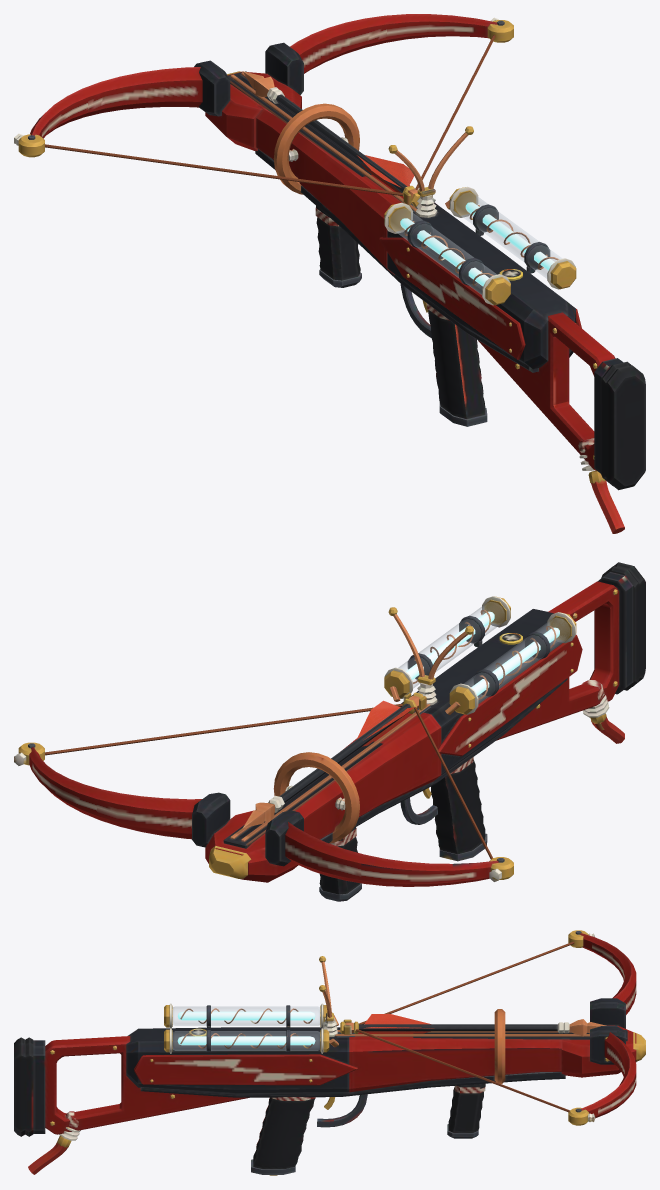
Rendered from stormreel.glb.
The picture shows the model from 3 angles, top to bottom: view 1: azimuth 30°, elevation 25°; view 2: azimuth 150°, elevation 25°; view 3: azimuth 270°, elevation 25°; orthographic projection. The views are drawn at different scales.
Parts seen in each view (by area): view 1: Stormreel_Body, Prod_L, Prod_R, Capacitor_Glass, Bolt_Mesh, String_L, Charge_R_Core, Charge_L_Core; view 2: Stormreel_Body, Prod_L, Prod_R, Capacitor_Glass, Bolt_Mesh, String_R, Charge_L_Core, Charge_R_Core, String_L; view 3: Stormreel_Body, Capacitor_Glass, Bolt_Mesh, Prod_R, Prod_L, Charge_R_Core, Charge_L_Core, String_R, String_L.
Part boxes in pixels (x1,y1,x2,y2): Stormreel_Body: [194, 42, 645, 533]; Prod_L: [14, 67, 202, 157]; Prod_R: [290, 14, 513, 73]; Capacitor_Glass: [390, 192, 561, 294]; Bolt_Mesh: [243, 71, 420, 207]; String_L: [45, 144, 402, 195]; Charge_R_Core: [465, 202, 554, 270]; Charge_L_Core: [400, 218, 489, 286]; Stormreel_Body: [192, 562, 645, 901]; Prod_L: [285, 822, 513, 886]; Prod_R: [14, 742, 201, 839]; Capacitor_Glass: [398, 602, 569, 703]; Bolt_Mesh: [242, 692, 423, 828]; String_R: [45, 703, 402, 755]; Charge_L_Core: [471, 627, 559, 695]; Charge_R_Core: [406, 611, 494, 679]; String_L: [414, 707, 492, 859]; Stormreel_Body: [14, 956, 645, 1175]; Capacitor_Glass: [173, 1006, 319, 1050]; Bolt_Mesh: [340, 1014, 606, 1036]; Prod_R: [568, 1032, 636, 1125]; Prod_L: [568, 930, 636, 1014]; Charge_R_Core: [177, 1036, 315, 1045]; Charge_L_Core: [177, 1011, 315, 1020]; String_R: [356, 1029, 569, 1112]; String_L: [359, 942, 574, 1024].
Size of the model in its own units: 0.5495 by 0.2804 by 0.788.
3 materials, 1 textured.
